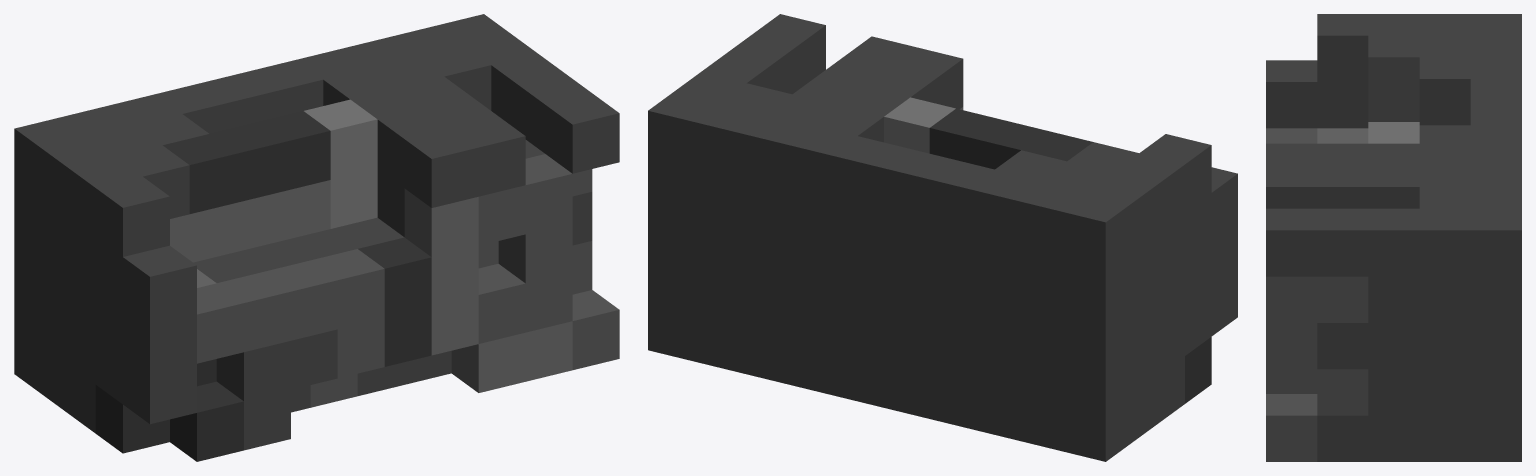
Rendered from ScoreBackground.fbx.
3 renders of one model, left to right at view 1: azimuth 30°, elevation 25°; view 2: azimuth 150°, elevation 25°; view 3: azimuth 270°, elevation 25°, orthographic. The views are drawn at different scales.
Visible parts, largest first — view 1: Matrix; view 2: Matrix; view 3: Matrix.
Boxes of the visible parts, left/top/right/bottom form: Matrix: left=14, top=14, right=619, bottom=461; Matrix: left=648, top=14, right=1237, bottom=461; Matrix: left=1266, top=14, right=1521, bottom=461.
Size of the model in its own units: 10 by 5 by 5.
Materials: 1 (1 with a texture image).
